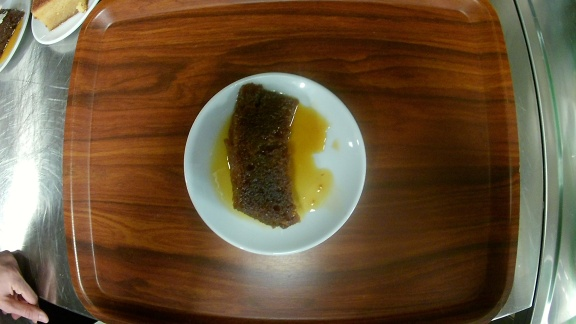ekmekkadayifi: (183, 72, 367, 254)
